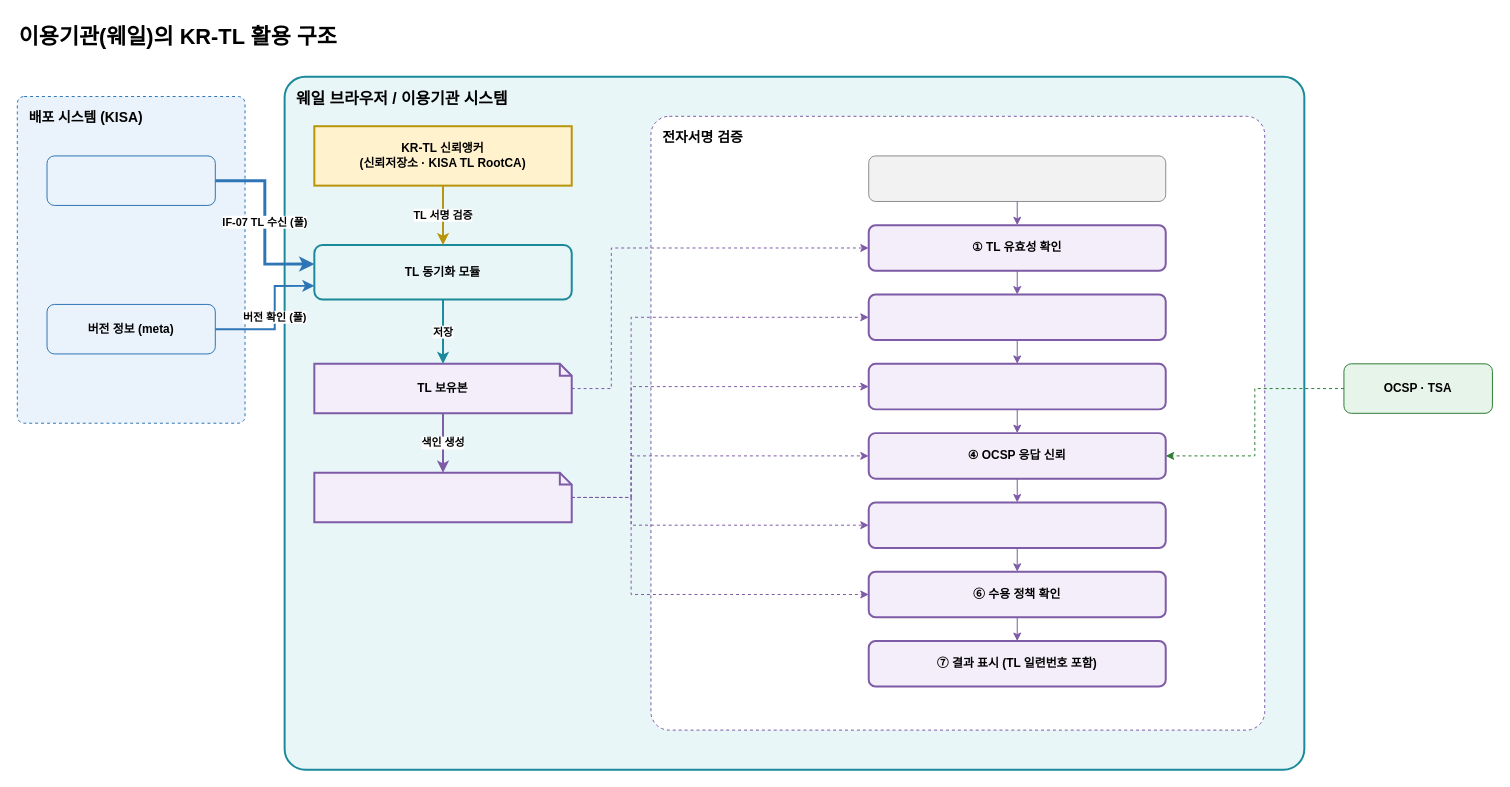
Some shapes in this 1510 by 787 pixel diagram are drawn without their labels. Here are the shapes that lost their labels. From the top down, the centre of each, then its label:
At pixel 130 180: "TL 제공".
At pixel 1017 178: "서명값 · 문서 무결성 확인".
At pixel 1016 317: "② 신뢰점 찾기".
At pixel 1016 386: "③ 서명 시점 서비스 상태".
At pixel 442 497: "신뢰 색인".
At pixel 1016 524: "⑤ 타임스탬프 신뢰".
